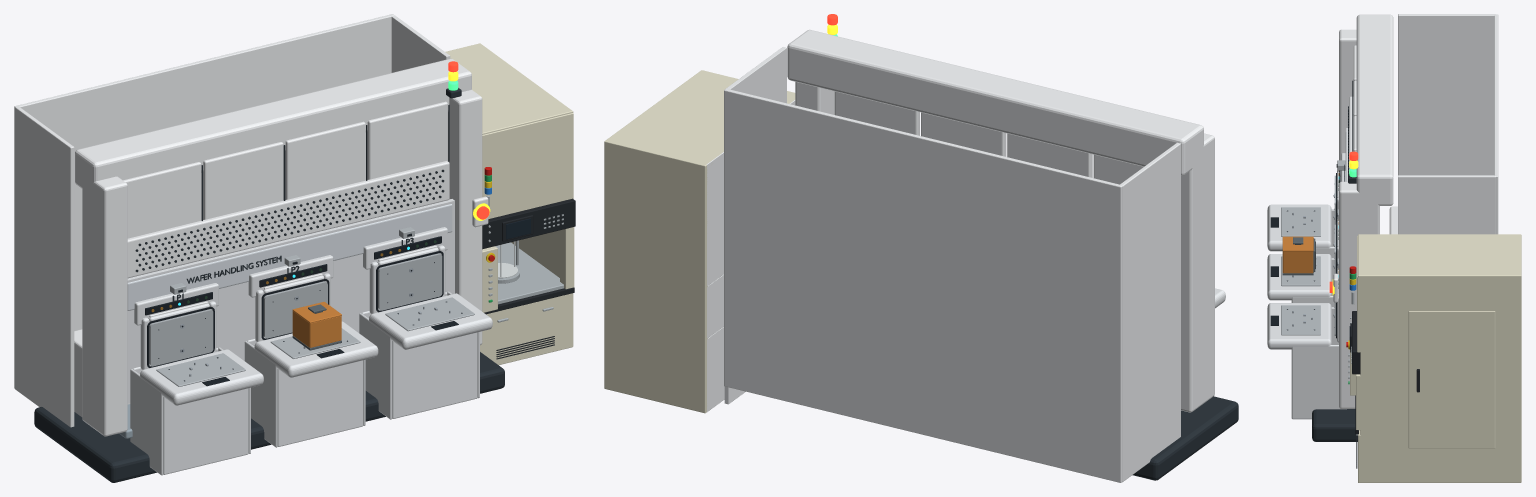
File: Oxidation_System.fbx
The picture shows the model from 3 angles, left to right: view 1: azimuth 30°, elevation 25°; view 2: azimuth 150°, elevation 25°; view 3: azimuth 270°, elevation 25°; orthographic projection. The views are drawn at different scales.
Parts seen in each view (by area): view 1: Demo_Enclosure_Back, Demo_Enclosure_Side, EFEM_TopHeader, REF_VentPanel, EFEM_LeftColumn, LoadPort_01_Pedestal, LoadPort_03_Pedestal, LoadPort_02_Pedestal, Loader_Front_Enclosure_Three_Openings, Furnace_Upper_Cabinet, REF_CenterFascia, EFEM_RightColumn (+31 smaller); view 2: Demo_Enclosure_Back, Furnace_Rear_Panel, EFEM_TopHeader, Demo_Enclosure_Side, EFEM_LeftColumn, Furnace_Top_Cover, EFEM_BasePlinth, Furnace_Left_Upper, REF_UpperCabinetPanel_4, REF_UpperCabinetPanel_2, REF_UpperCabinetPanel_3, Loader_Right_Upper (+4 smaller); view 3: Furnace_Side_Panel.001, Demo_Enclosure_Side, Furnace_Maintenance_Panel, Furnace_Top_Cover, EFEM_TopHeader, Loader_Right_Upper, EFEM_RightColumn, LoadPort_03_Pedestal, LoadPort_03_Deck, EFEM_LeftColumn, LoadPort_02_Deck, Furnace_Lower_Cabinet (+15 smaller).
Boxes of the visible parts, <box> form: Demo_Enclosure_Back: <box>14,14,394,388</box>; Demo_Enclosure_Side: <box>15,107,74,427</box>; EFEM_TopHeader: <box>75,58,471,188</box>; REF_VentPanel: <box>127,161,449,278</box>; EFEM_LeftColumn: <box>82,176,127,436</box>; LoadPort_01_Pedestal: <box>130,347,250,475</box>; LoadPort_03_Pedestal: <box>359,291,479,419</box>; LoadPort_02_Pedestal: <box>244,338,365,447</box>; Loader_Front_Enclosure_Three_Openings: <box>127,199,454,403</box>; Furnace_Upper_Cabinet: <box>482,113,573,218</box>; REF_CenterFascia: <box>127,204,452,310</box>; EFEM_RightColumn: <box>448,89,482,345</box>; Demo_Enclosure_Back: <box>724,88,1122,482</box>; Furnace_Rear_Panel: <box>604,141,707,413</box>; EFEM_TopHeader: <box>787,29,1203,175</box>; Demo_Enclosure_Side: <box>1120,142,1180,481</box>; EFEM_LeftColumn: <box>1181,133,1214,412</box>; Furnace_Top_Cover: <box>604,70,795,168</box>; EFEM_BasePlinth: <box>1132,396,1238,480</box>; Furnace_Left_Upper: <box>706,100,795,286</box>; REF_UpperCabinetPanel_4: <box>834,91,919,135</box>; REF_UpperCabinetPanel_2: <box>1007,133,1092,177</box>; REF_UpperCabinetPanel_3: <box>921,112,1006,156</box>; Loader_Right_Upper: <box>726,47,786,103</box>; Furnace_Side_Panel.001: <box>1360,275,1518,482</box>; Demo_Enclosure_Side: <box>1398,14,1495,175</box>; Furnace_Maintenance_Panel: <box>1408,311,1495,448</box>; Furnace_Top_Cover: <box>1358,234,1521,278</box>; EFEM_TopHeader: <box>1356,14,1393,205</box>; Loader_Right_Upper: <box>1398,175,1495,234</box>; EFEM_RightColumn: <box>1339,181,1379,408</box>; LoadPort_03_Pedestal: <box>1291,307,1346,419</box>; LoadPort_03_Deck: <box>1267,303,1331,349</box>; EFEM_LeftColumn: <box>1339,29,1356,160</box>; LoadPort_02_Deck: <box>1267,254,1331,300</box>; Furnace_Lower_Cabinet: <box>1358,430,1389,482</box>.
Size of the model in its own units: 611 by 375 by 311.
